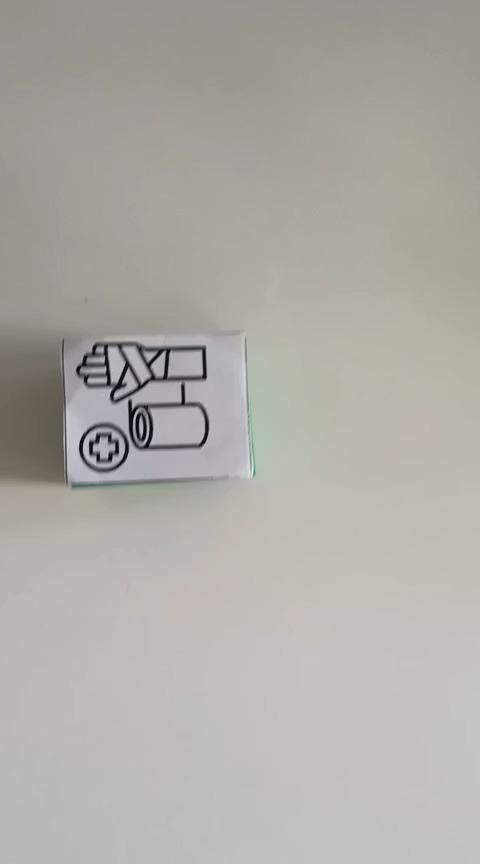Bandages: (60, 329, 254, 487)
